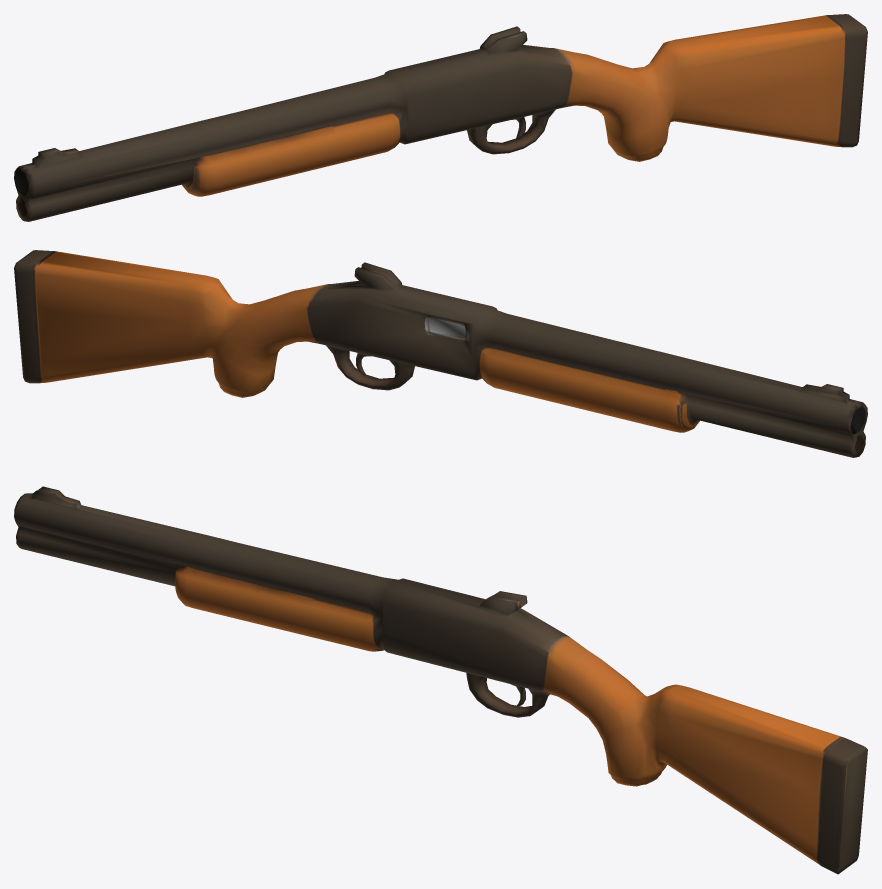
Rendered from Gun.fbx.
The picture shows the model from 3 angles, top to bottom: view 1: azimuth 30°, elevation 25°; view 2: azimuth 150°, elevation 25°; view 3: azimuth 330°, elevation 25°; orthographic projection.
Parts seen in each view (by area): view 1: material; view 2: material; view 3: material.
Boxes of the visible parts, x1,y1,x2,y2 form: material: (14, 14, 867, 221); material: (14, 250, 867, 457); material: (14, 486, 867, 874).
Size of the model in its own units: 1.9 by 0.4159 by 0.1152.
